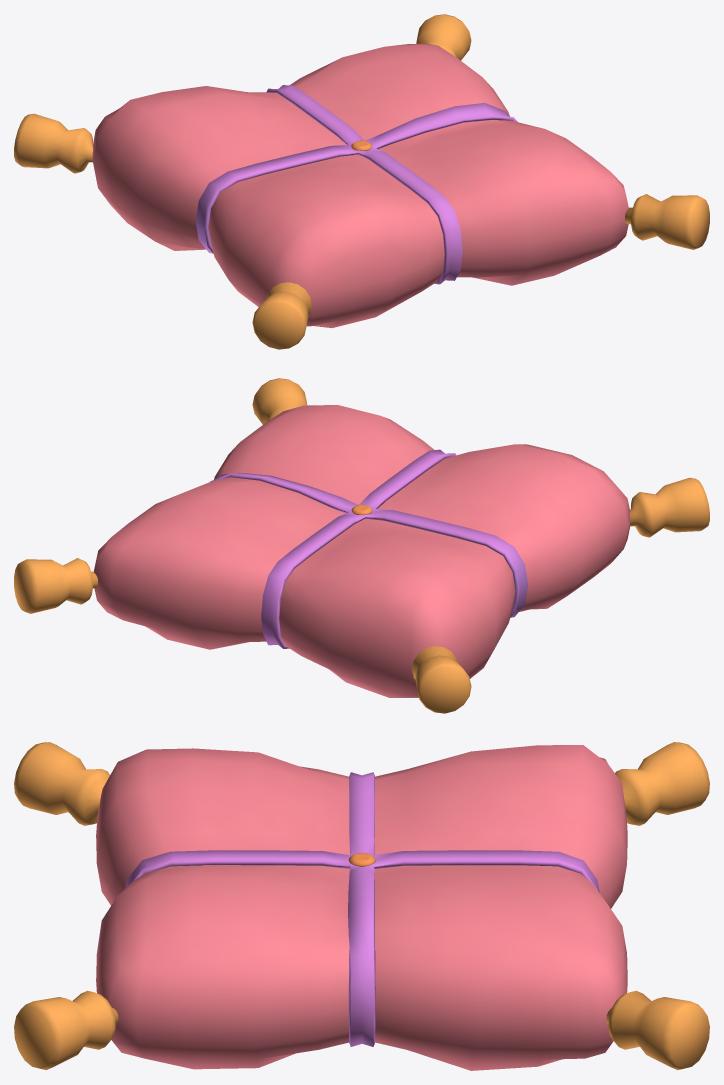
The model's file is Pillow_1.fbx.
3 renders of one model, top to bottom at view 1: azimuth 30°, elevation 25°; view 2: azimuth 150°, elevation 25°; view 3: azimuth 270°, elevation 25°, orthographic. The views are drawn at different scales.
Parts seen in each view (by area): view 1: Cube.016; view 2: Cube.016; view 3: Cube.016.
Boxes of the visible parts, x1,y1,x2,y2 form: Cube.016: (14,14,709,349); Cube.016: (14,378,709,713); Cube.016: (14,742,709,1070).
Size of the model in its own units: 66.65 by 18.01 by 68.64.
